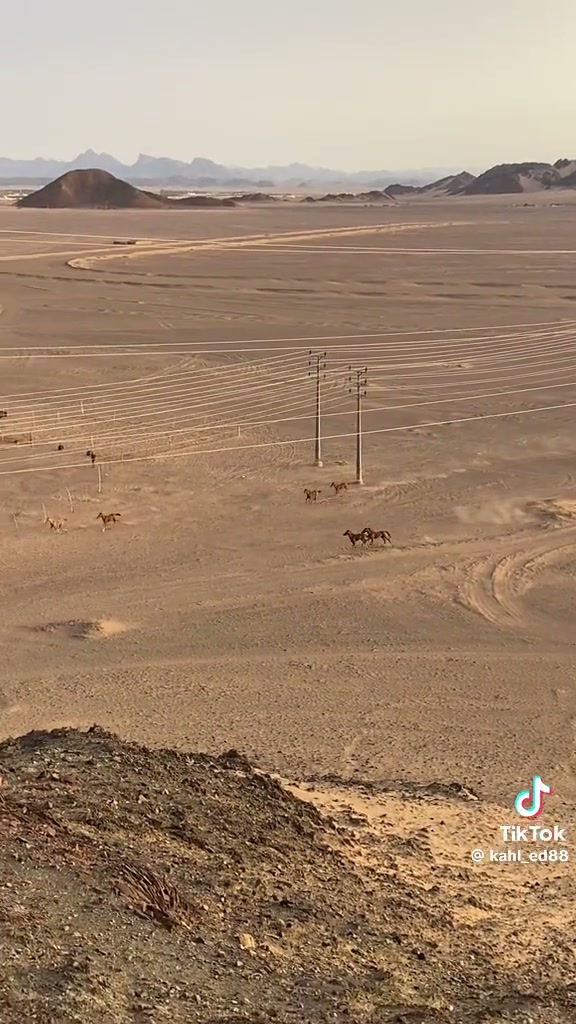animal: (363, 527, 391, 544), (343, 529, 369, 546), (96, 512, 120, 530), (46, 517, 66, 531), (330, 481, 347, 495), (304, 488, 320, 502), (86, 450, 95, 464), (0, 410, 7, 418), (57, 443, 63, 449)
vehicle_track: (459, 526, 575, 641)
